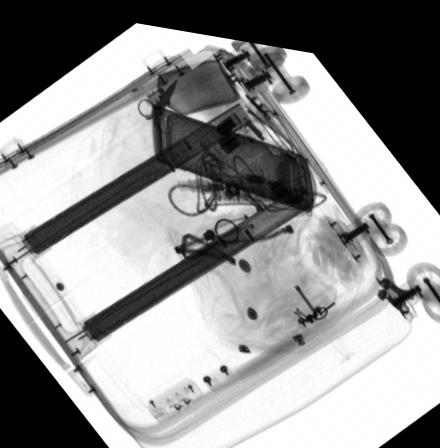Scissors: (133, 71, 177, 130)
